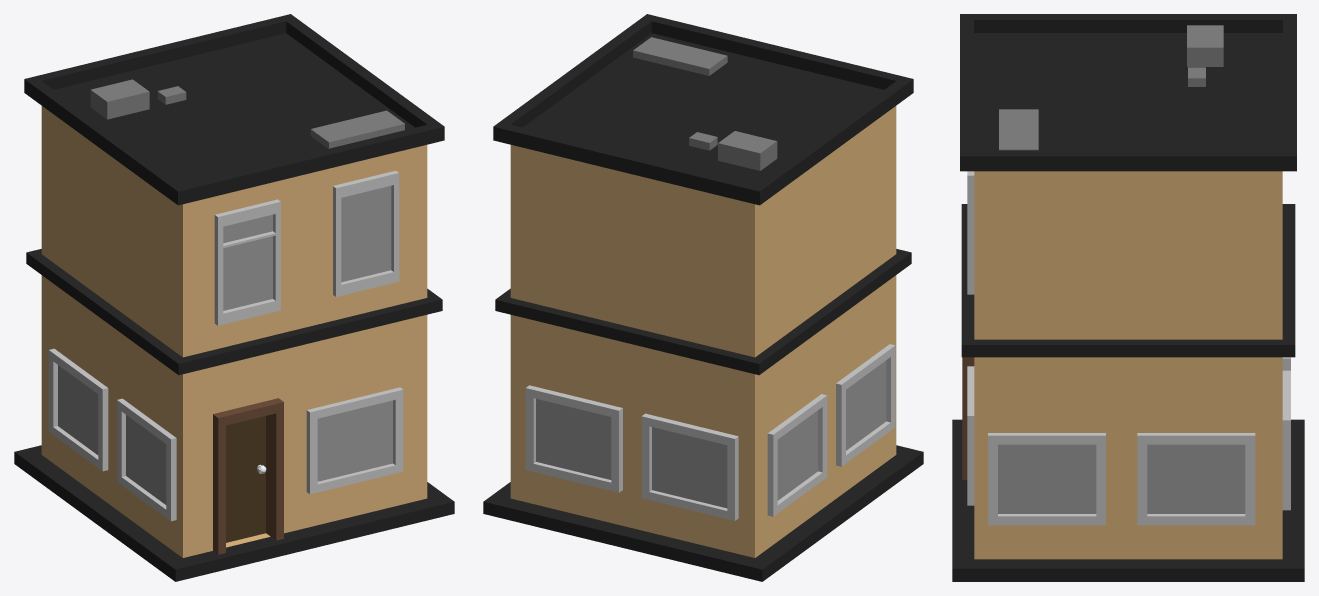
Rendered from buildings4.fbx.
The picture shows the model from 3 angles, left to right: view 1: azimuth 30°, elevation 25°; view 2: azimuth 150°, elevation 25°; view 3: azimuth 270°, elevation 25°; orthographic projection. The views are drawn at different scales.
Parts seen in each view (by area): view 1: Cube; view 2: Cube; view 3: Cube.
Part boxes in pixels (x1,y1,x2,y2): Cube: [14, 14, 454, 581]; Cube: [483, 14, 923, 581]; Cube: [952, 14, 1304, 581].
Bounding box in the file's own units: 597 × 802 × 597.
